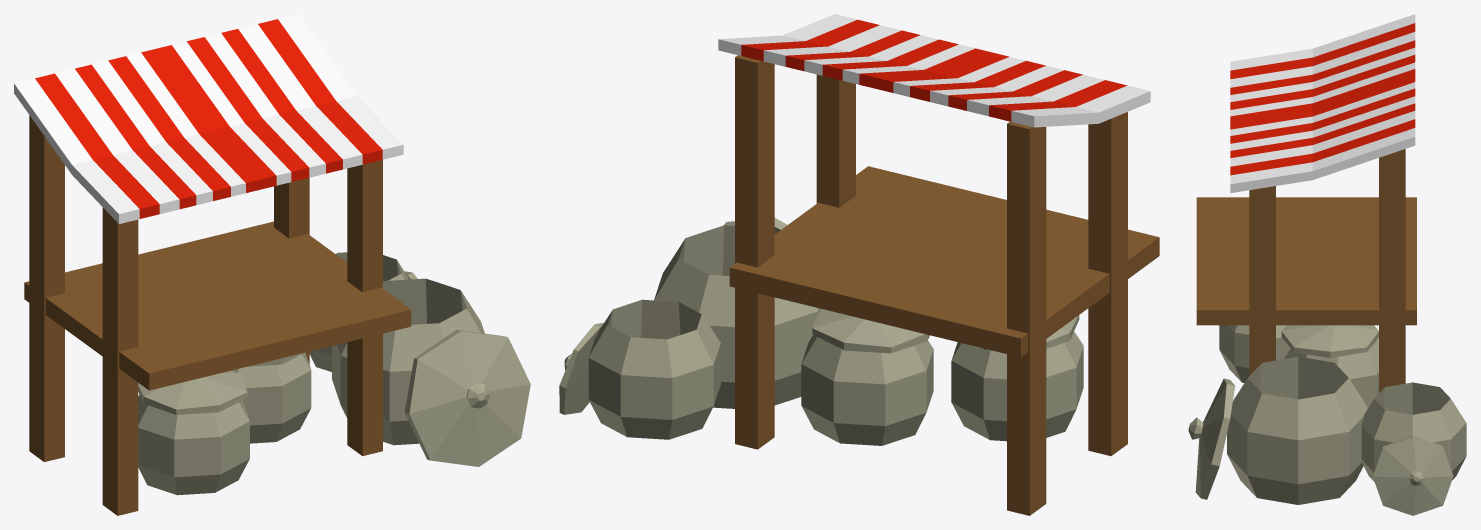
Rendered from FoodShop.fbx.
3 views of the same model, side by side, from view 1: azimuth 30°, elevation 25°; view 2: azimuth 150°, elevation 25°; view 3: azimuth 270°, elevation 25° (orthographic). The views are drawn at different scales.
Parts seen in each view (by area): view 1: Shop, Baskets; view 2: Shop, Baskets; view 3: Shop, Baskets.
Part boxes in pixels (x1=…): Shop: x1=14, y1=14, x2=411, y2=515; Baskets: x1=138, y1=252, x2=530, y2=495; Shop: x1=718, y1=14, x2=1159, y2=515; Baskets: x1=559, y1=218, x2=1083, y2=445; Shop: x1=1196, y1=14, x2=1416, y2=393; Baskets: x1=1188, y1=325, x2=1466, y2=515.
Size of the model in its own units: 754 by 646 by 488.
